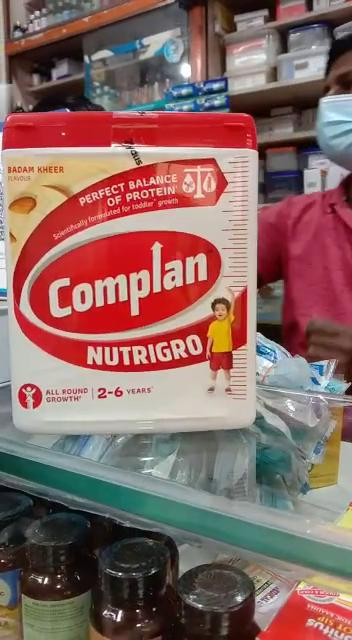Complan Nutrigro Badam Kheer: (9, 115, 259, 440)
